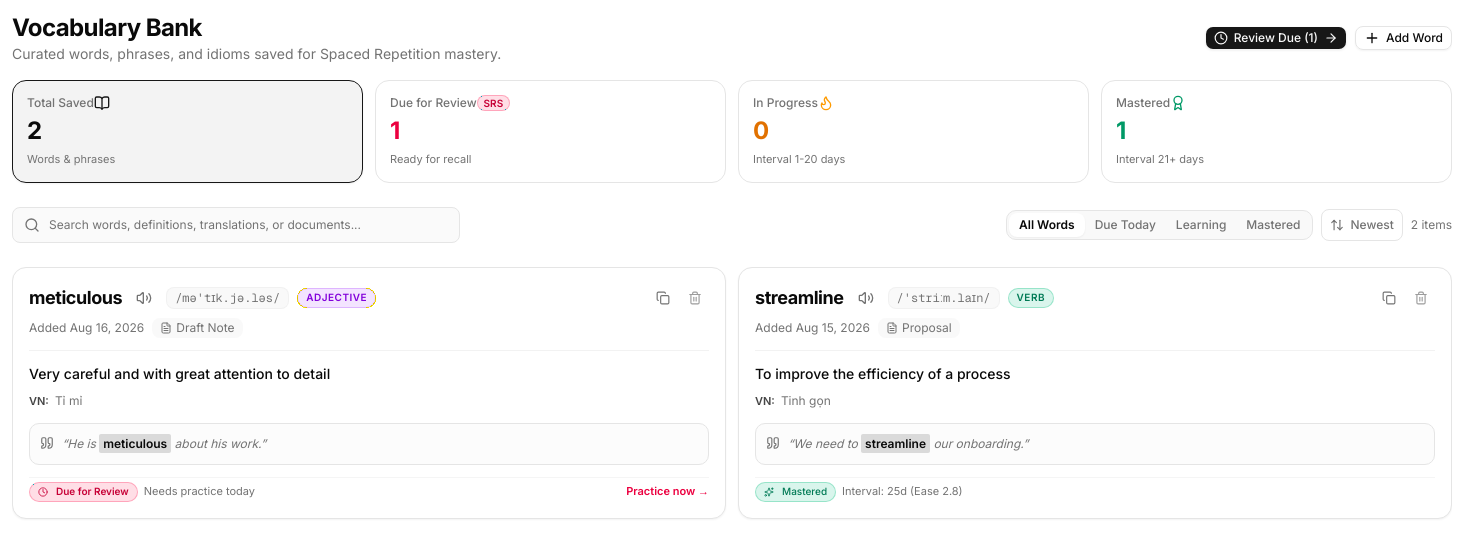
Scenario: VocabularyBank component › deletes a vocabulary item when delete button is clicked
Click the button named "Delete meticulous".
click(695, 298)  # box [681,284,709,312]
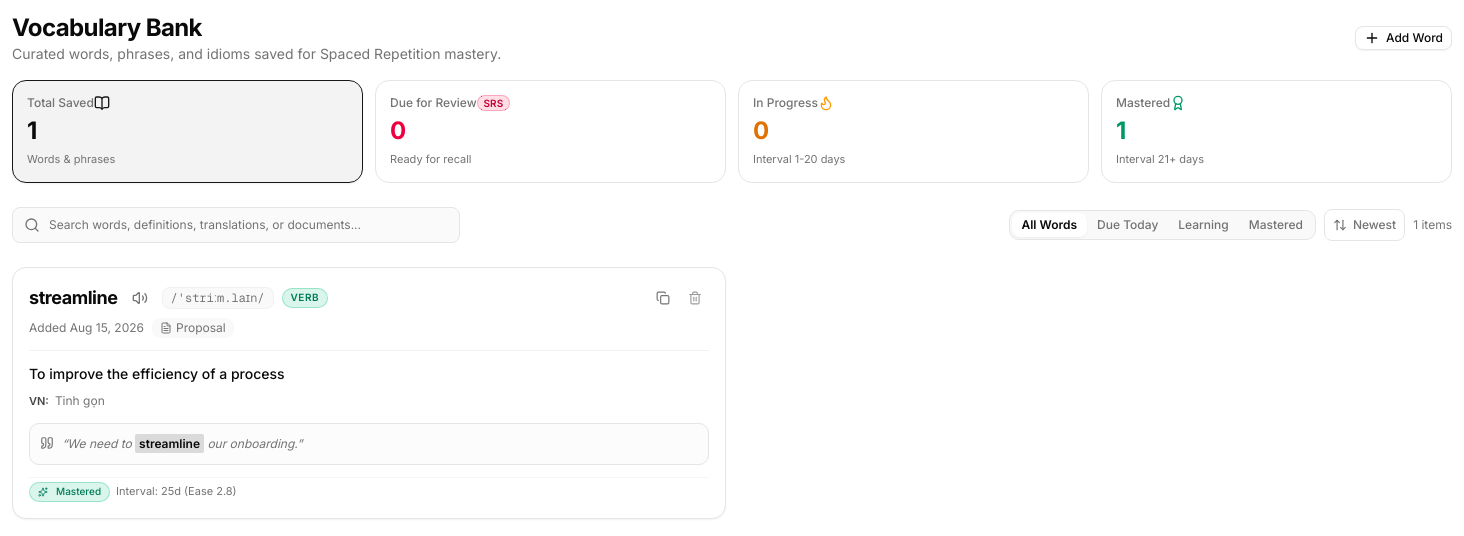
Now the heading "meticulous" is gone
